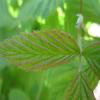Raspberry leaf: (0, 27, 80, 73), (63, 69, 96, 99)
